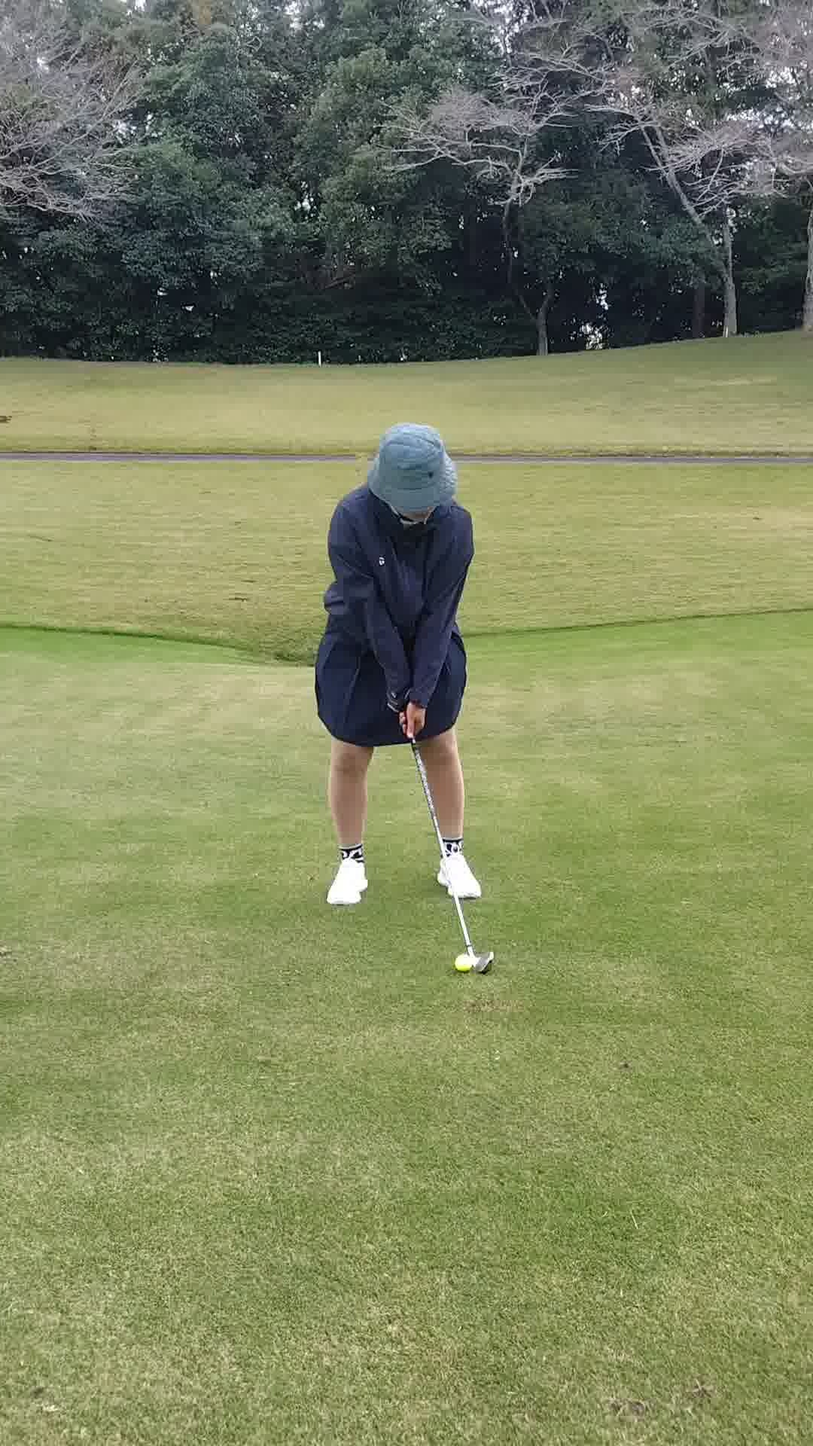clubhead: (413, 928, 551, 1019)
